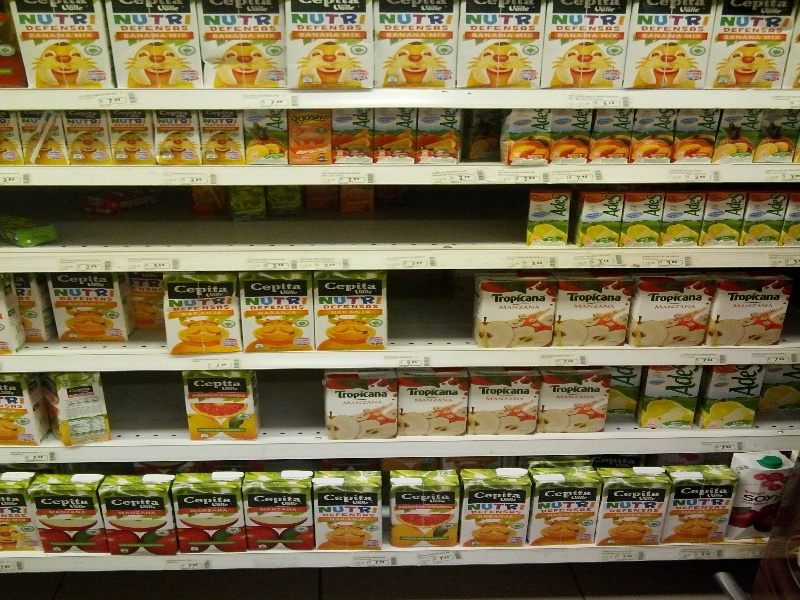juice: (29, 470, 111, 556), (383, 464, 463, 550), (469, 273, 558, 346), (99, 474, 179, 555), (628, 272, 712, 347), (527, 464, 603, 545), (456, 464, 533, 543), (243, 472, 319, 551), (174, 471, 248, 551), (593, 468, 670, 544), (555, 272, 632, 347), (183, 372, 265, 441), (711, 274, 791, 344), (317, 470, 382, 547), (667, 466, 732, 542)
